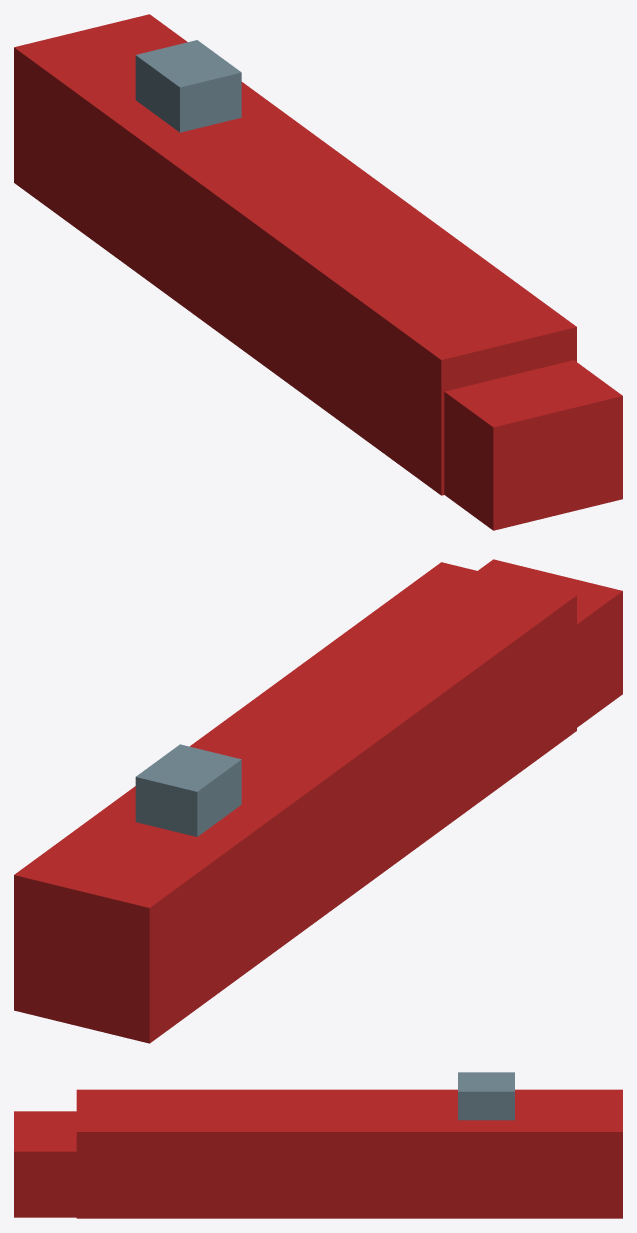
The model's file is railway_locomotive.glb.
3 renders of one model, top to bottom at view 1: azimuth 30°, elevation 25°; view 2: azimuth 150°, elevation 25°; view 3: azimuth 270°, elevation 25°, orthographic. The views are drawn at different scales.
Bounding box in the file's own units: 4.4 × 5.6 × 26.75.
